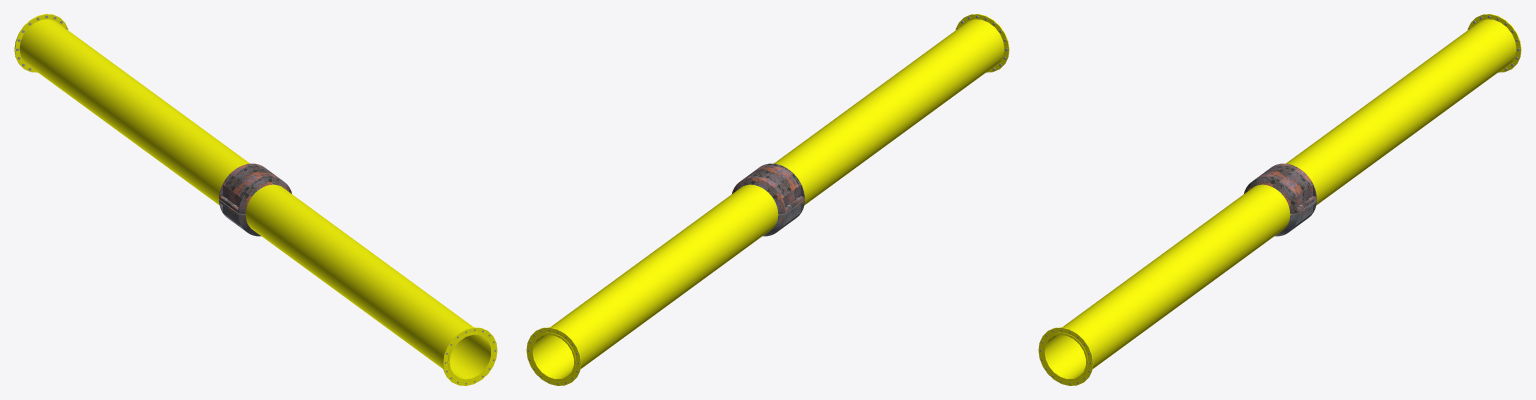
Rendered from protected.obj.
The picture shows the model from 3 angles, left to right: view 1: azimuth 30°, elevation 25°; view 2: azimuth 150°, elevation 25°; view 3: azimuth 330°, elevation 25°; orthographic projection.
Parts seen in each view (by area): view 1: Pipe, Cathode_Rusted, Cathode_NonRusted; view 2: Pipe, Cathode_Rusted, Cathode_NonRusted; view 3: Pipe, Cathode_Rusted, Cathode_NonRusted.
Part boxes in pixels (x1=…): Pipe: x1=14, y1=14, x2=497, y2=385; Cathode_Rusted: x1=219, y1=163, x2=291, y2=214; Cathode_NonRusted: x1=219, y1=199, x2=260, y2=236; Pipe: x1=526, y1=14, x2=1009, y2=385; Cathode_Rusted: x1=732, y1=163, x2=804, y2=214; Cathode_NonRusted: x1=763, y1=199, x2=804, y2=236; Pipe: x1=1038, y1=14, x2=1521, y2=385; Cathode_Rusted: x1=1244, y1=163, x2=1316, y2=214; Cathode_NonRusted: x1=1275, y1=199, x2=1316, y2=236.
Size of the model in its own units: 0.7315 by 0.7315 by 10.
Materials: 4 (3 with a texture image).
